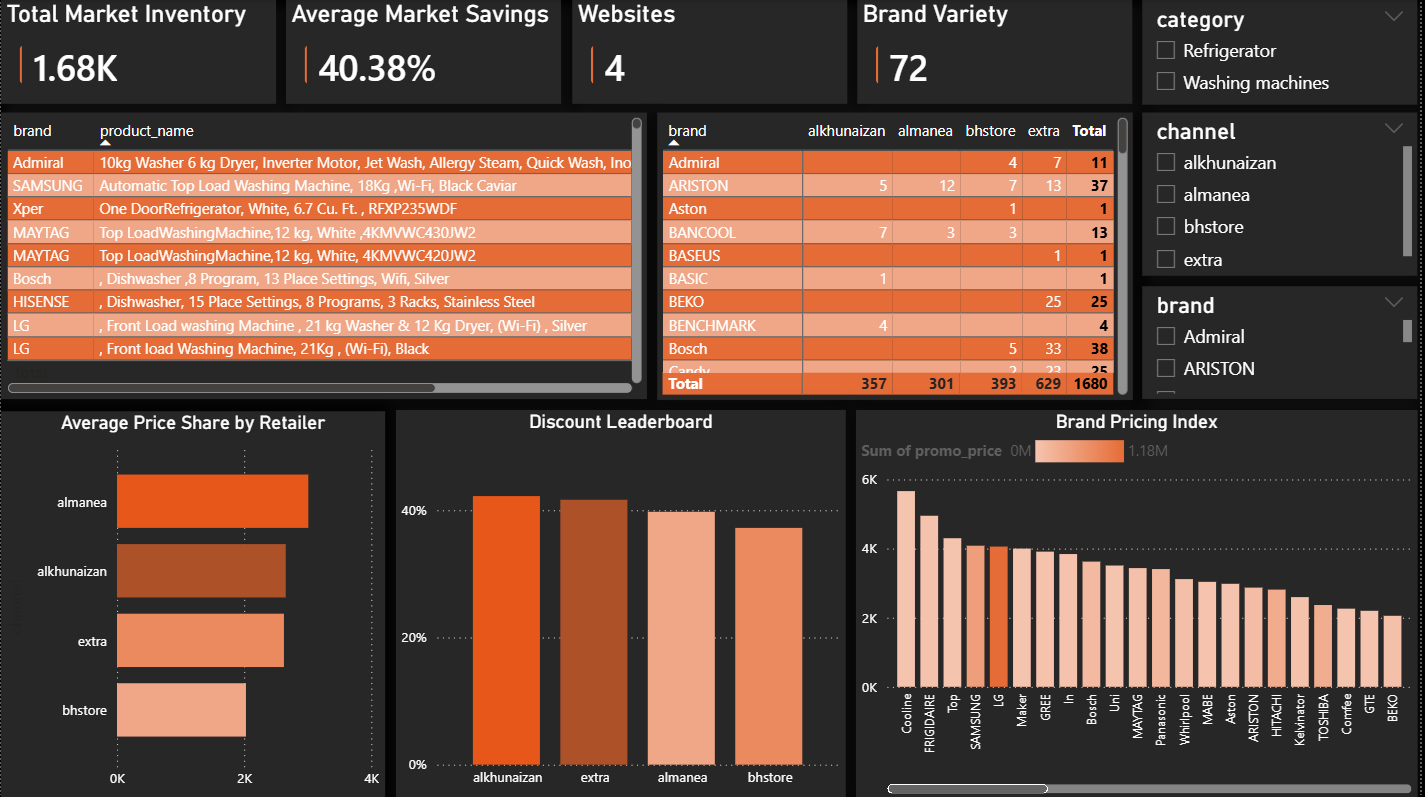

This screenshot's page, from the dashboard's own definition file:
{"tool":"powerbi","page":{"name":"Page 1","canvas":[1280,720],"ordinal":0},"visuals":[{"type":"cardVisual","title":"Total Market Inventory","fields":{"Data":["CountNonNull(Full_WEB.product_name)"]},"box":[0,0,248.4,93.3],"z":0},{"type":"cardVisual","title":"Average Market Savings","fields":{"Data":["Avg(Full_WEB.discount)"]},"box":[257.3,0,248.4,93.3],"z":1000},{"type":"cardVisual","title":"Websites ","fields":{"Data":["Count(Full_WEB.channel)"]},"box":[514.6,0,248.4,93.3],"z":2000},{"type":"cardVisual","title":"Brand Variety","fields":{"Data":["Count(Full_WEB.brand)"]},"box":[771.9,0,248.4,93.3],"z":3000},{"type":"slicer","fields":{"Values":["Full_WEB.category"]},"box":[1029.2,0,248.4,94.7],"z":4000},{"type":"slicer","fields":{"Values":["Full_WEB.channel"]},"box":[1029.2,101.5,248.4,146.8],"z":5000},{"type":"slicer","fields":{"Values":["Full_WEB.brand"]},"box":[1029.2,258,248.4,101.5],"z":6000},{"type":"pivotTable","fields":{"Rows":["Full_WEB.brand"],"Columns":["Full_WEB.channel"],"Values":["CountNonNull(Full_WEB.product_name)"]},"box":[591.9,101.2,429.1,259.3],"z":7000},{"type":"columnChart","title":"Brand Pricing Index","fields":{"Category":["Full_WEB.brand"],"Y":["Avg(Full_WEB.promo_price)"]},"box":[770.9,369.7,506.1,350.5],"z":8000},{"type":"columnChart","title":"Discount Leaderboard","fields":{"Category":["Full_WEB.channel"],"Y":["Avg(Full_WEB.discount)"]},"box":[355.7,370,405.7,350],"z":9000},{"type":"clusteredBarChart","title":"Average Price Share by Retailer","fields":{"Category":["Full_WEB.channel"],"Y":["Avg(Full_WEB.promo_price)"]},"box":[0,370.5,346.1,349.7],"z":10000},{"type":"tableEx","fields":{"Values":["Full_WEB.brand","Full_WEB.product_name","Full_WEB.channel","Sum(Full_WEB.promo_price)"]},"box":[0,101.2,582.6,258.1],"z":11000}]}

Visuals, with their boxes in screenshot pixels (x1, y1, x2, y2), scaled from the page's 1280x720 canvas onto the 1425x797 screenshot:
"Total Market Inventory" cardVisual: (0, 0, 277, 103)
"Average Market Savings" cardVisual: (286, 0, 563, 103)
"Websites " cardVisual: (573, 0, 849, 103)
"Brand Variety" cardVisual: (859, 0, 1136, 103)
slicer - Full_WEB.category: (1146, 0, 1422, 105)
slicer - Full_WEB.channel: (1146, 112, 1422, 275)
slicer - Full_WEB.brand: (1146, 286, 1422, 398)
pivotTable - Full_WEB.brand x Full_WEB.channel: (659, 112, 1137, 399)
"Brand Pricing Index" columnChart: (858, 409, 1422, 796)
"Discount Leaderboard" columnChart: (396, 410, 848, 796)
"Average Price Share by Retailer" clusteredBarChart: (0, 410, 385, 796)
tableEx - Full_WEB.brand x Full_WEB.product_name: (0, 112, 649, 398)
